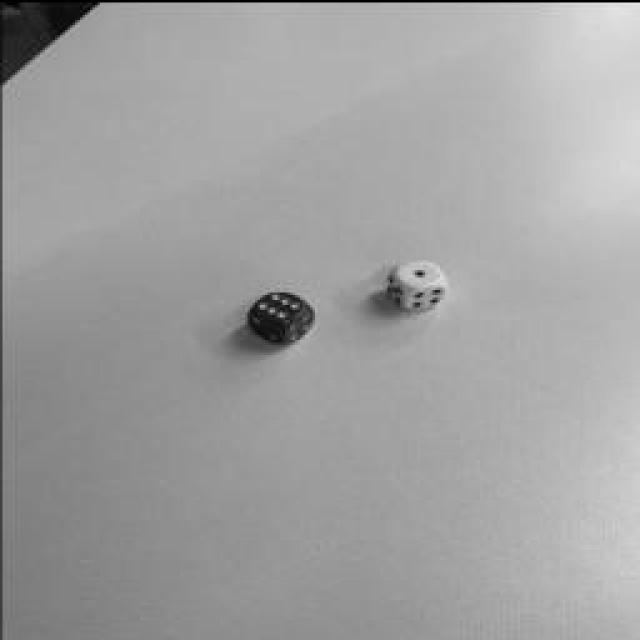dice_1: (394, 259, 444, 286)
dice_6: (250, 290, 305, 322)
